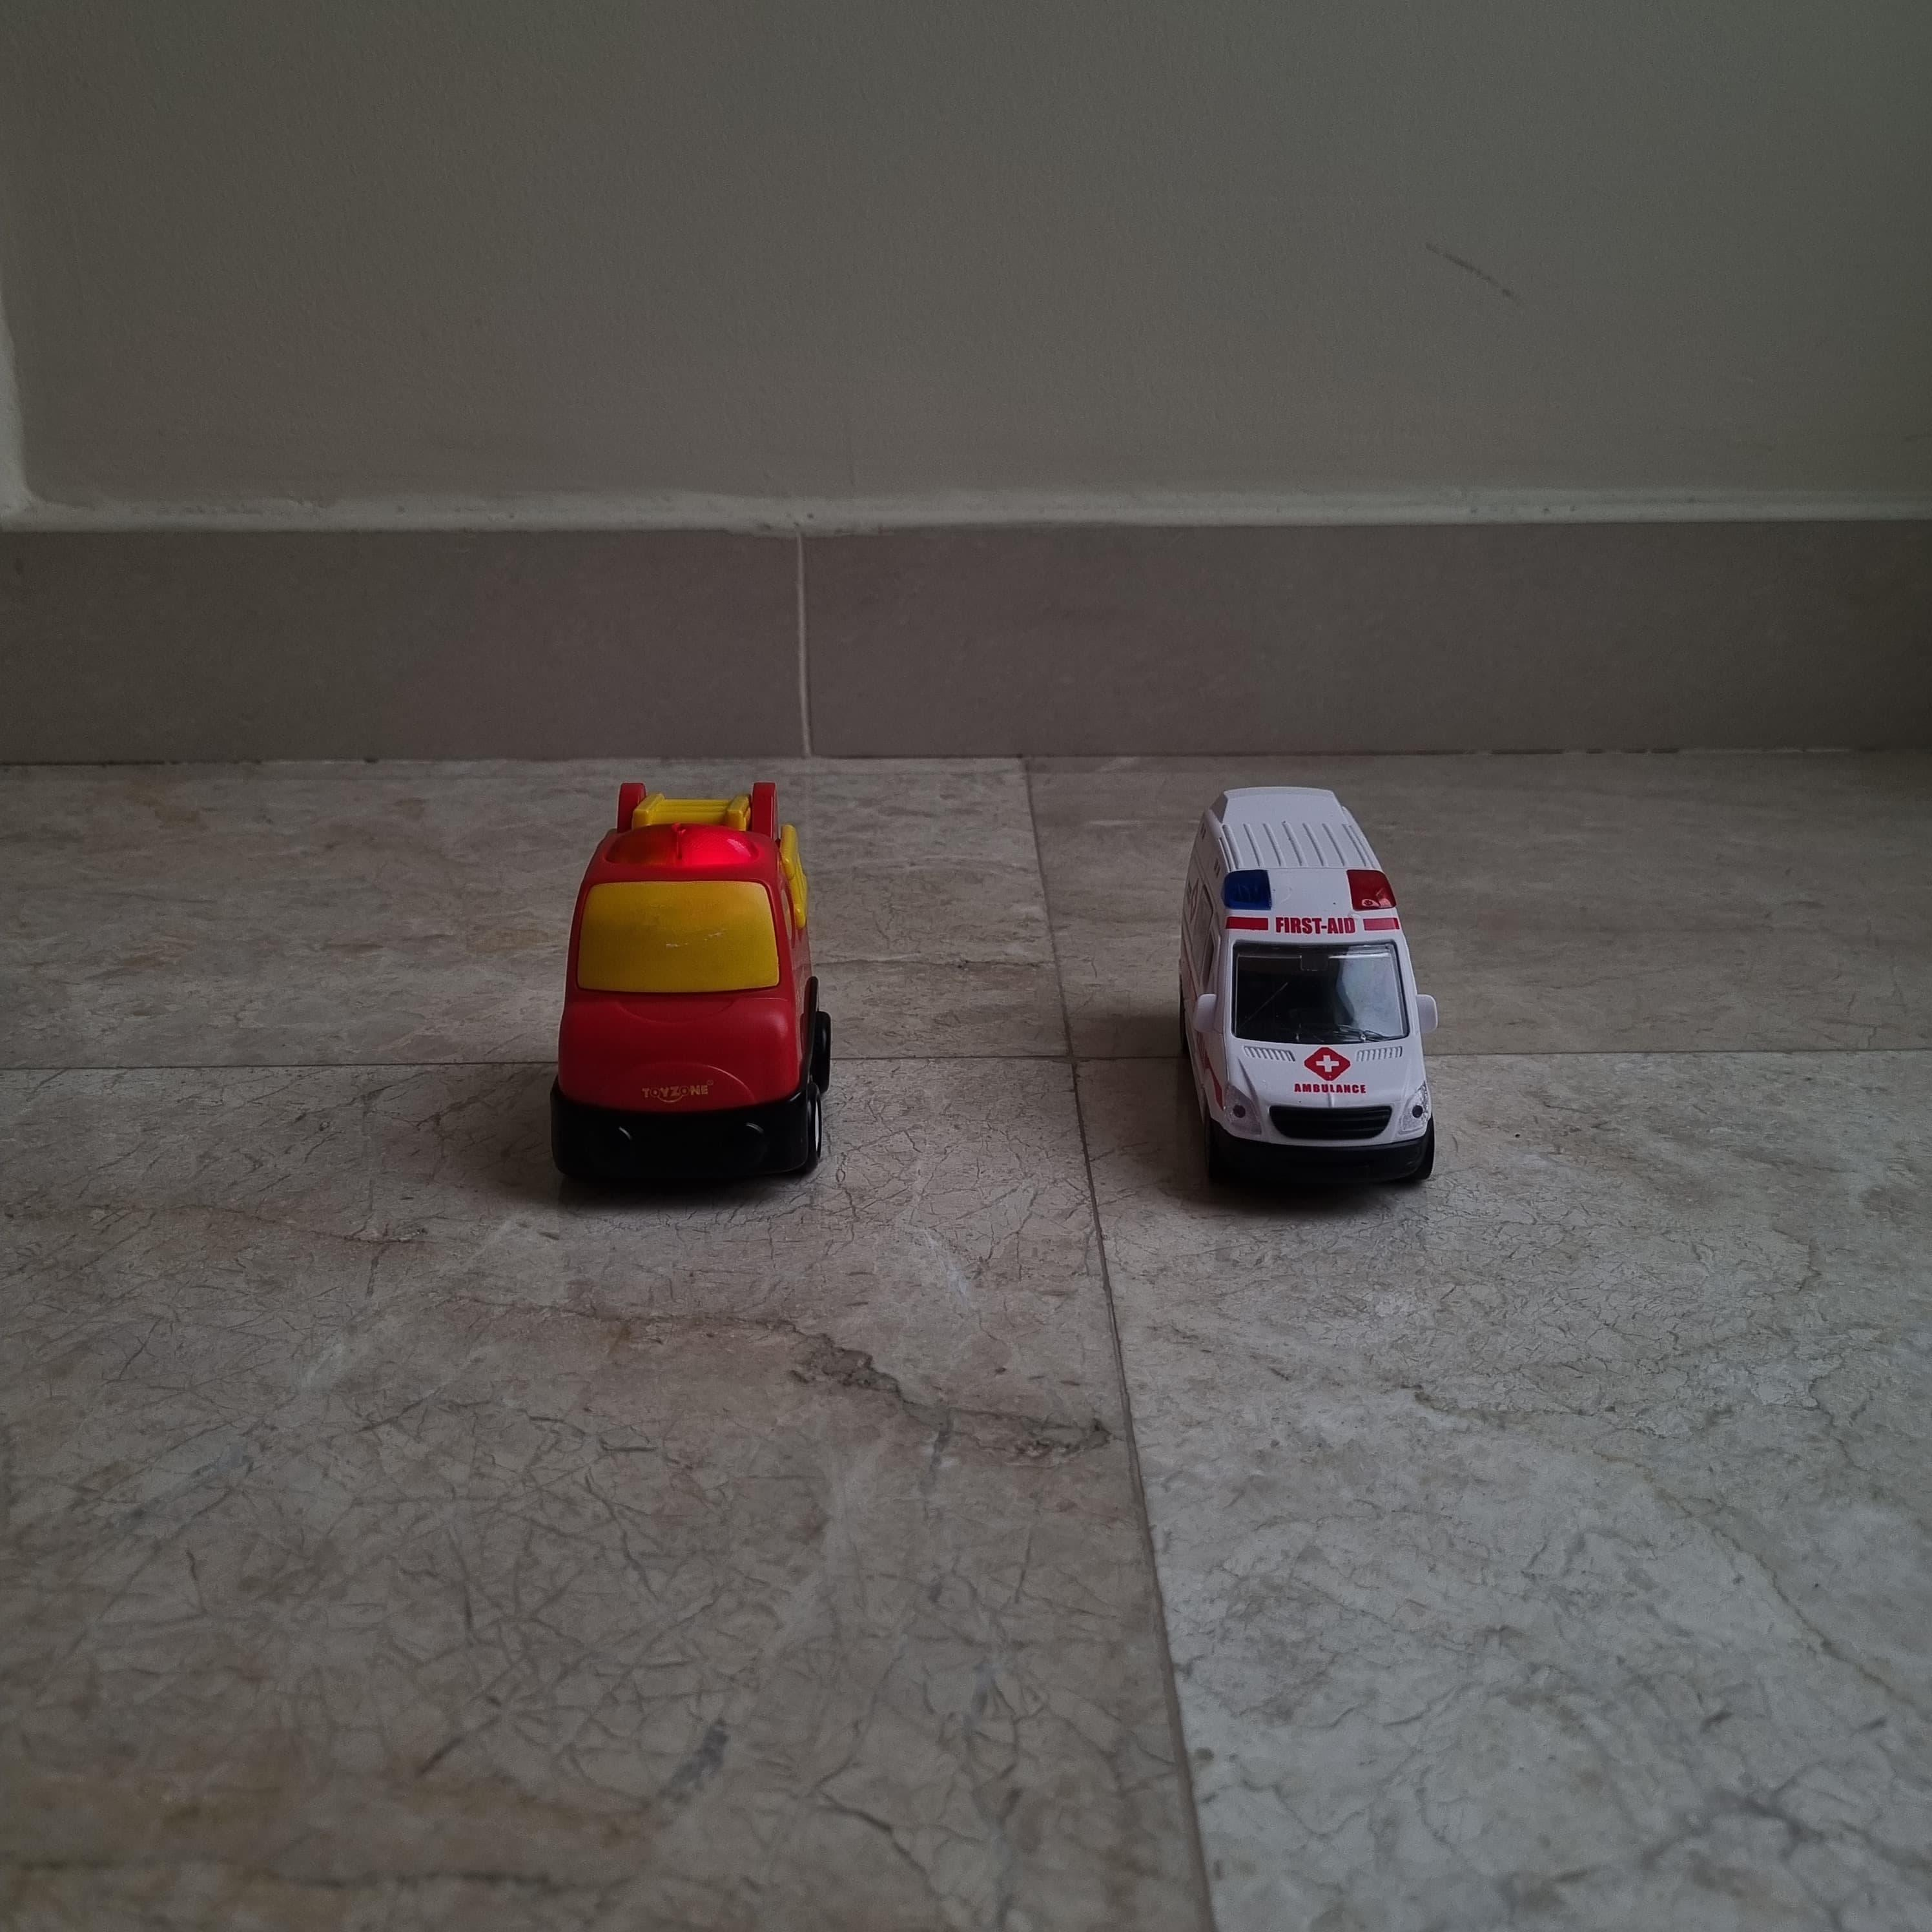ambulance_off: (1175, 782, 1438, 1198)
firetruck_on: (550, 784, 833, 1191)
